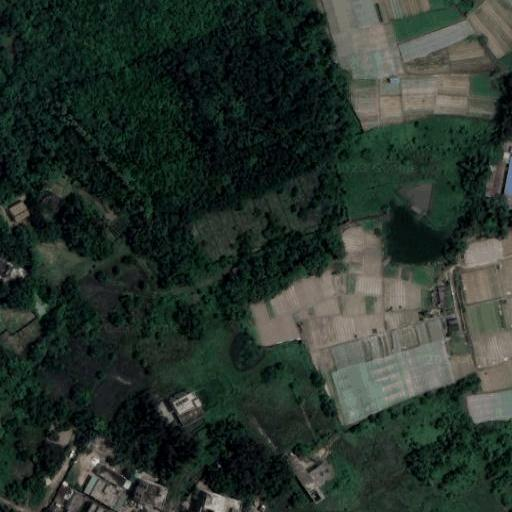building: (461, 387, 512, 427), (287, 454, 324, 502), (90, 480, 121, 508), (484, 159, 506, 197), (198, 491, 236, 512), (96, 465, 127, 488), (134, 479, 160, 505), (174, 399, 199, 421), (168, 387, 193, 409), (502, 158, 512, 207), (53, 485, 71, 506), (43, 192, 63, 210), (11, 203, 28, 221), (84, 477, 98, 496), (0, 260, 13, 277), (84, 503, 105, 512), (196, 506, 209, 512), (506, 140, 512, 152), (390, 78, 400, 83)
